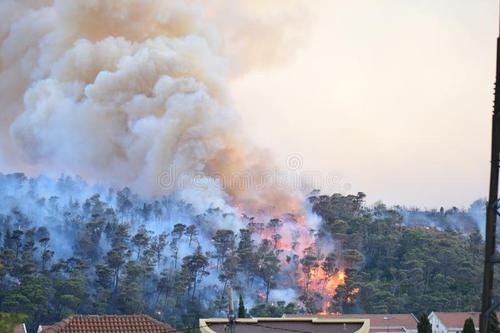fire: (238, 192, 359, 316)
